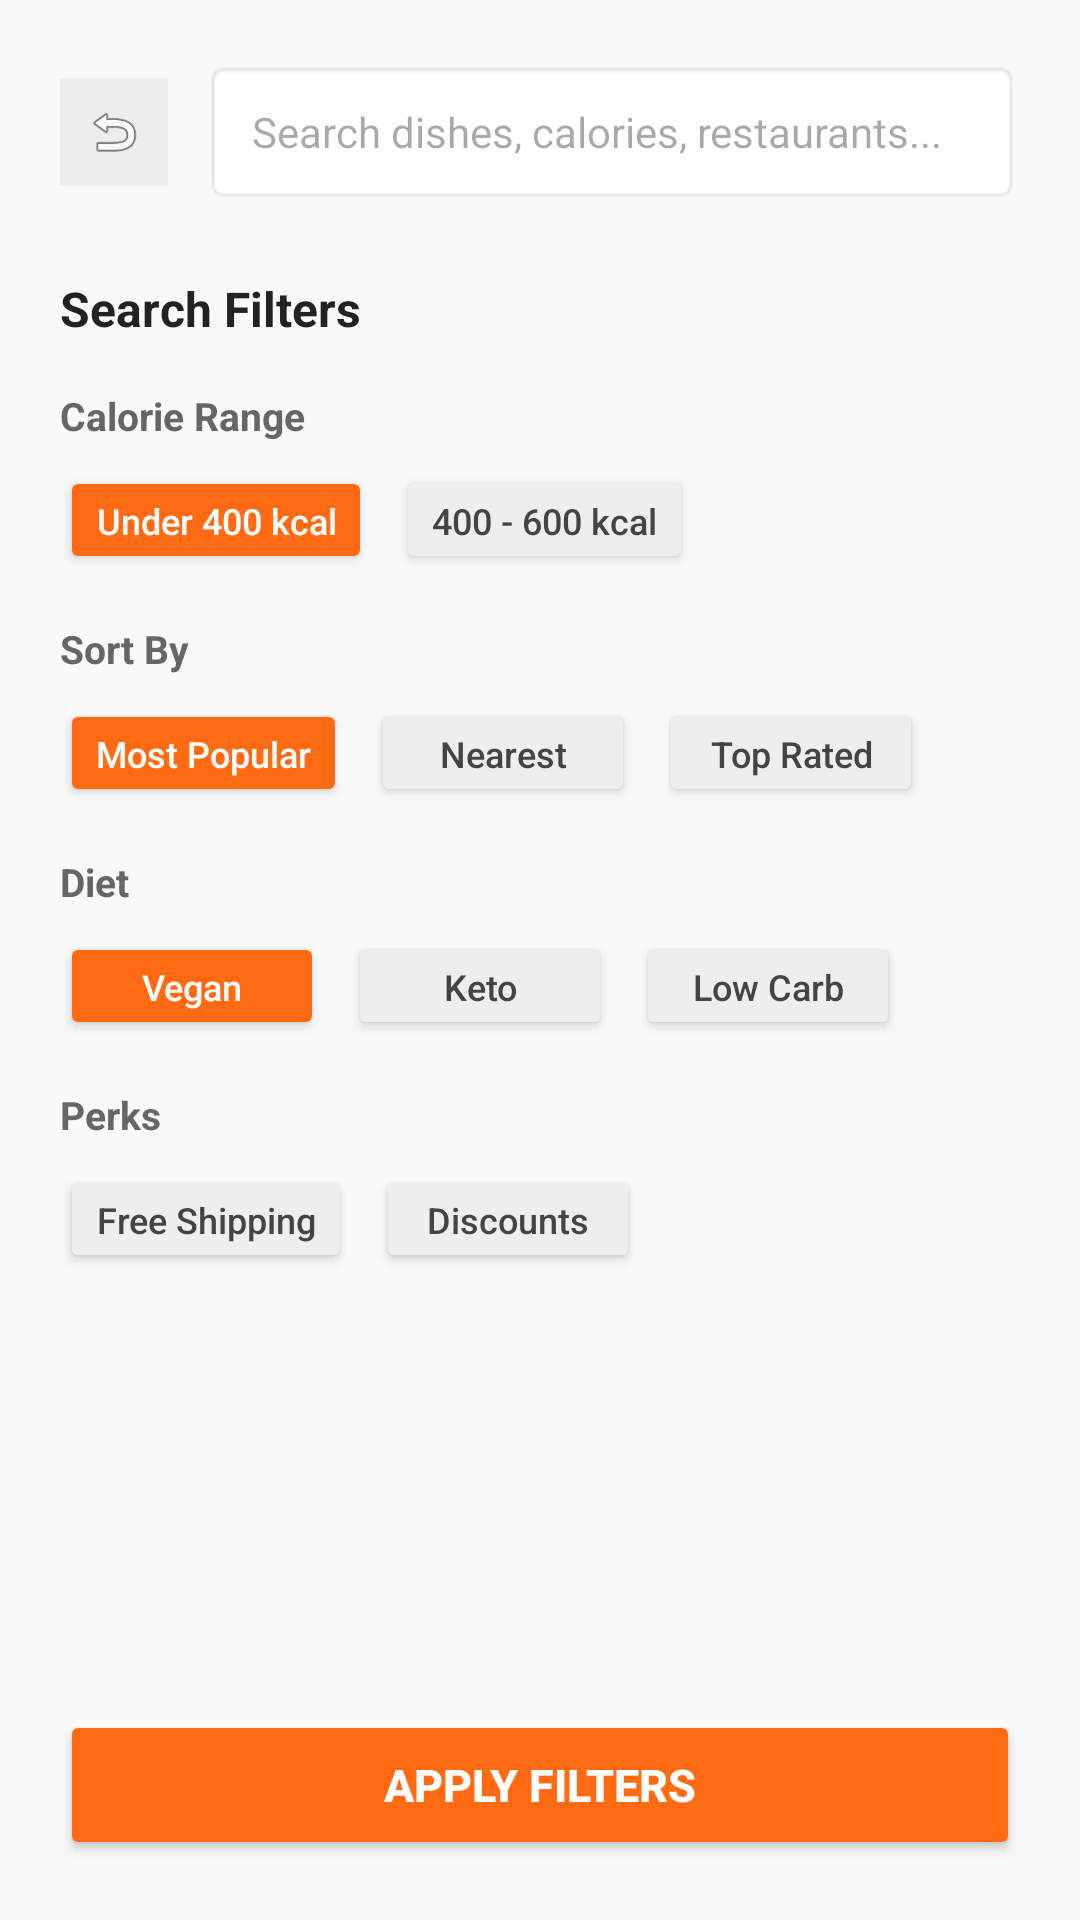

Screen size 1080w x 1920h. Icon name, then its center in pixels as [x,y]:
revert: [114,132]
